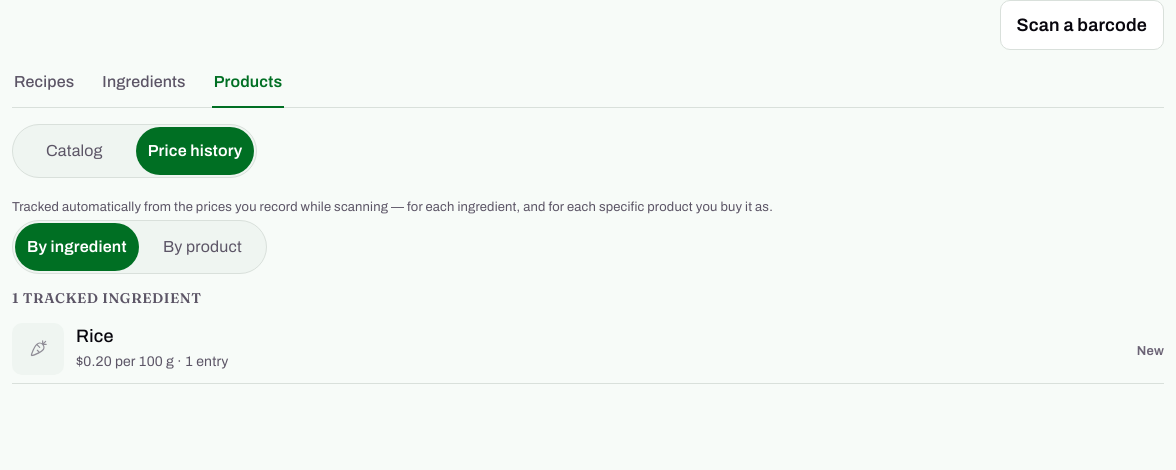
Test: PriceHistory — two levels (DESIGN_PRODUCTS.md §1.4) › shows a thin-data empty state for the product level when only bare-ingredient prices exist
This screenshot has width=1176, height=470.
Expected: the text "Rice" is shown, [76, 326, 114, 346]
What coordinates should you click on to do the following:
click the radio button labelled "By product"
I would click on:
 (202, 246)
Its box is [163, 238, 242, 255].
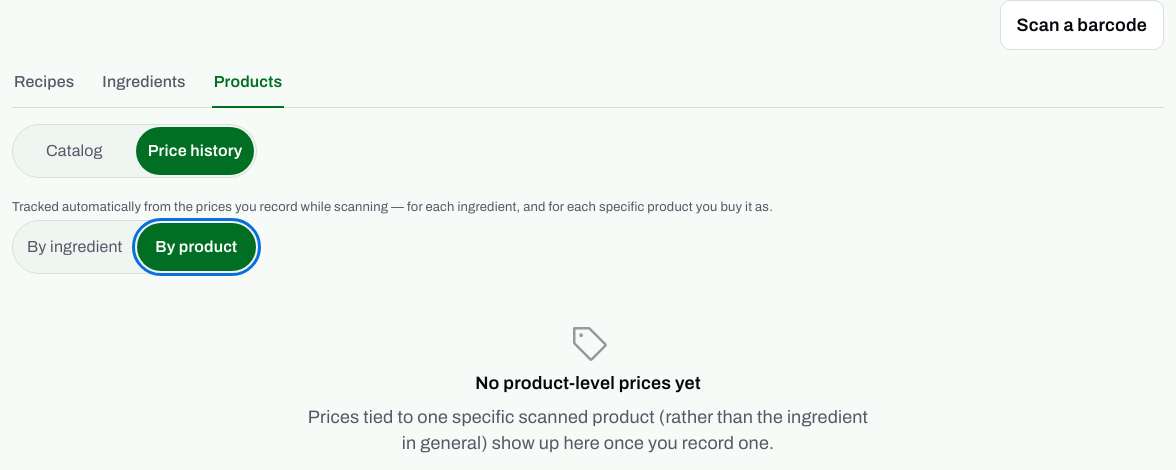
Expected: the text "No product-level prices yet" is shown, [475, 370, 701, 396]
